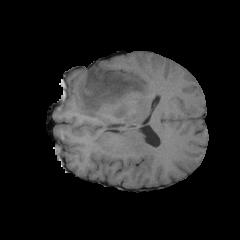glioma: (70, 62, 157, 123)
